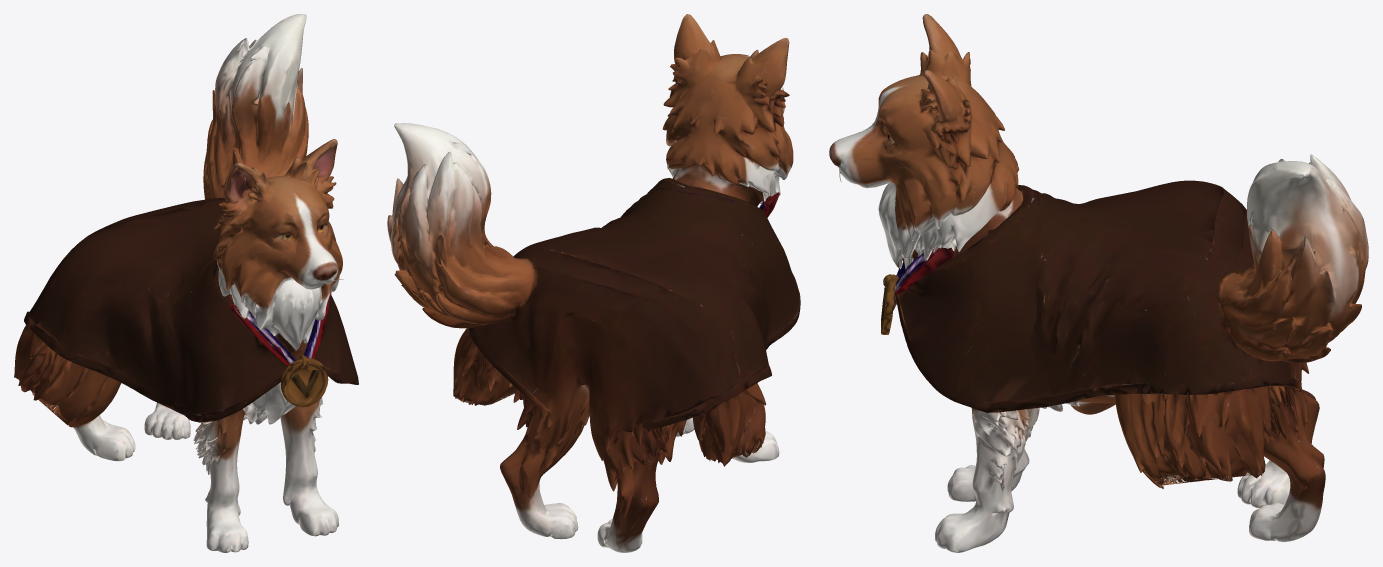
File: detail_12.glb
3 views of the same model, side by side, from view 1: azimuth 30°, elevation 25°; view 2: azimuth 150°, elevation 25°; view 3: azimuth 270°, elevation 25° (orthographic). The views are drawn at different scales.
Visible parts, largest first — view 1: Mesh_0; view 2: Mesh_0; view 3: Mesh_0.
Boxes of the visible parts, <box> form: Mesh_0: <box>14,14,358,552</box>; Mesh_0: <box>387,14,800,552</box>; Mesh_0: <box>829,14,1368,552</box>.
Bounding box in the file's own units: 0.8245 × 0.9678 × 0.9938.
Materials: 1 (1 with a texture image).
